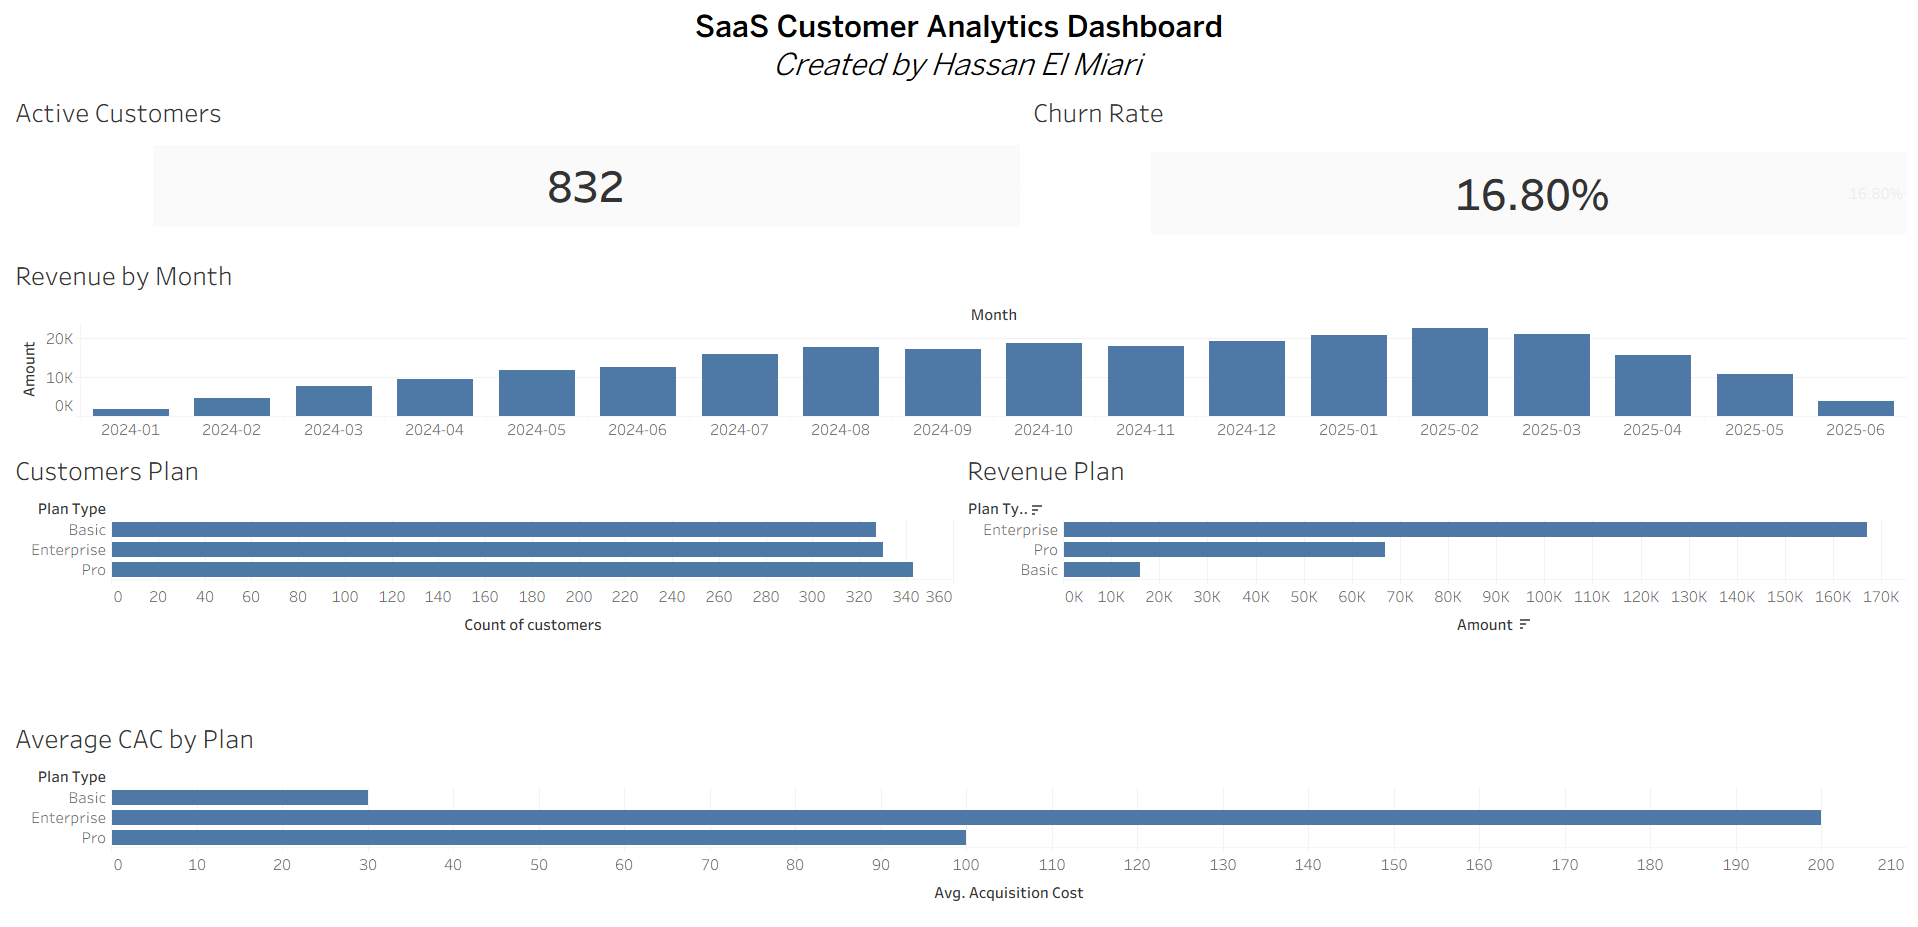

Layout of this report page (visuals, bound fields, positions):
{"tool":"tableau","page":{"name":"SaaS Customer Analytics Dashboard","canvas":[1000,1000],"units":"permille","ordinal":0},"visuals":[{"type":"title","box":[4.8,9.9,990.3,101.1]},{"type":"worksheet","title":"Active Customers","mark":"Automatic","box":[4.8,111,529.5,160]},{"type":"worksheet","title":"Churn Rate","mark":"Automatic","box":[534.3,111,460.9,160]},{"type":"worksheet","title":"Revenue by Month","mark":"Automatic","rows":["amount"],"cols":["month"],"box":[4.8,270.9,990.3,191.4]},{"type":"worksheet","title":"Customers Plan","mark":"Automatic","rows":["plan_type"],"cols":["customers_63F2541A44FB4BC38758BB4CF7F1300F"],"box":[4.8,462.4,495.2,263.9]},{"type":"worksheet","title":"Revenue Plan","mark":"Automatic","rows":["plan_type"],"cols":["amount"],"box":[500,462.4,495.2,263.9]},{"type":"worksheet","title":"Average CAC by Plan","mark":"Automatic","rows":["plan_type"],"cols":["acquisition_cost"],"box":[4.8,726.2,990.3,263.9]}]}

Visuals, with their boxes on the dashboard's canvas, which has no fixed pixel size, in thousandths of its width and height (x1, y1, x2, y2). These are canvas units, not pixel positions in the 1918x927 screenshot, which may show the page scaled, cropped or inside an application window:
title: rect(5, 10, 995, 111)
"Active Customers" worksheet: rect(5, 111, 534, 271)
"Churn Rate" worksheet: rect(534, 111, 995, 271)
"Revenue by Month" worksheet: rect(5, 271, 995, 462)
"Customers Plan" worksheet: rect(5, 462, 500, 726)
"Revenue Plan" worksheet: rect(500, 462, 995, 726)
"Average CAC by Plan" worksheet: rect(5, 726, 995, 990)
